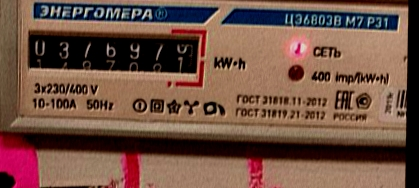0: (35, 37, 49, 58)
1: (177, 55, 188, 73)
3: (59, 40, 72, 60)
6: (106, 38, 120, 59)
7: (82, 38, 96, 60), (154, 41, 166, 63)
9: (130, 40, 143, 61)
screen: (22, 22, 213, 89)
